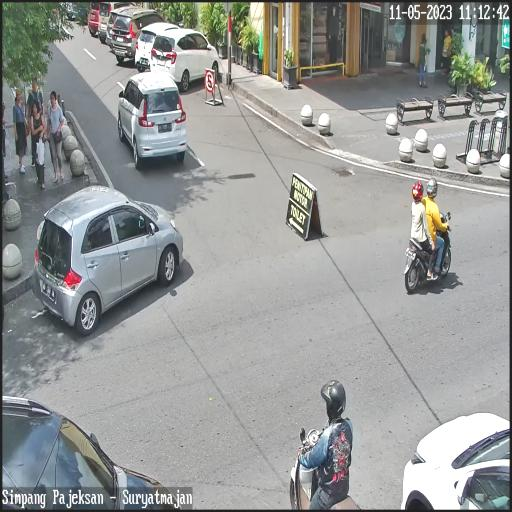mobil: (30, 182, 184, 338), (114, 68, 190, 171), (151, 25, 220, 91), (112, 10, 166, 64), (136, 22, 180, 72)
motor: (401, 209, 456, 299)
